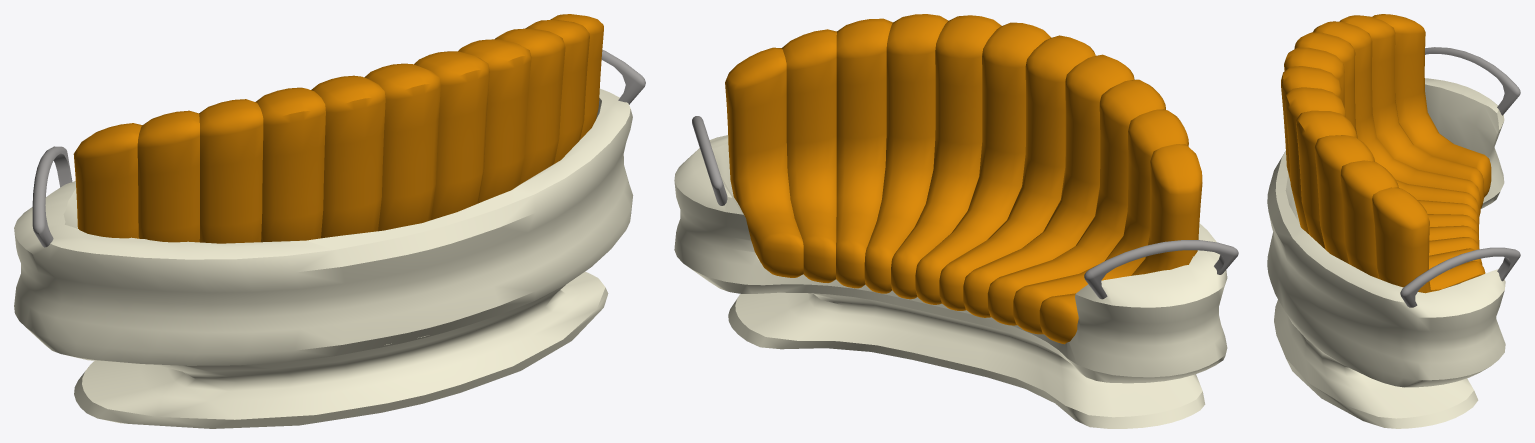
The model's file is Couch.fbx.
The picture shows the model from 3 angles, left to right: view 1: azimuth 30°, elevation 25°; view 2: azimuth 150°, elevation 25°; view 3: azimuth 270°, elevation 25°; orthographic projection. The views are drawn at different scales.
Visible parts, largest first — view 1: Body, Cushions, Handles; view 2: Cushions, Body, Handles; view 3: Cushions, Body, Handles.
Part boxes in pixels (<box>): Body: <box>14,88,633,428</box>; Cushions: <box>73,14,603,243</box>; Handles: <box>32,49,645,247</box>; Cushions: <box>725,14,1202,344</box>; Body: <box>674,135,1227,428</box>; Handles: <box>692,116,1238,299</box>; Cushions: <box>1281,14,1491,293</box>; Body: <box>1267,78,1505,428</box>; Handles: <box>1400,47,1520,307</box>.
Size of the model in its own units: 12.07 by 6.15 by 5.43.
